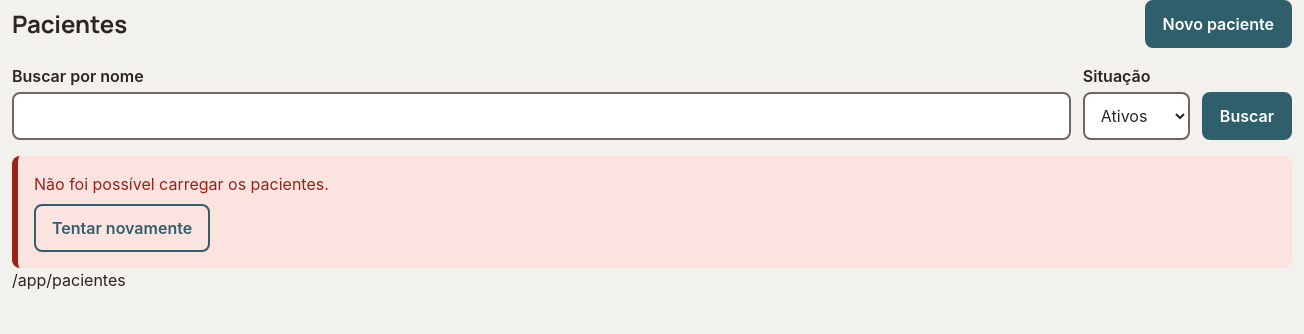
Lista de pacientes (PAC-02) › erro ao carregar com nova tentativa
Expected: the text "Não foi possível carregar os pacientes." is shown, [34, 174, 329, 194]
Click the button "Tentar novamente". click: (122, 228)
box: [34, 204, 210, 252]
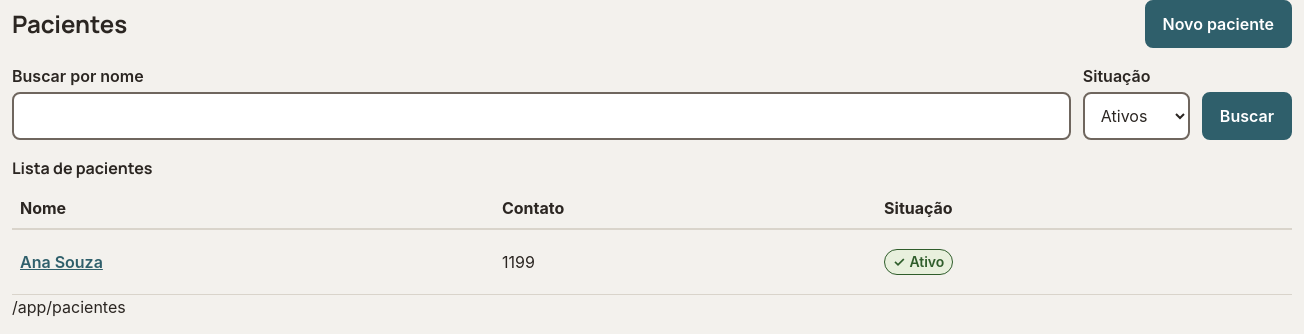
Expected: the link "Ana Souza" is shown, [20, 252, 103, 272]
